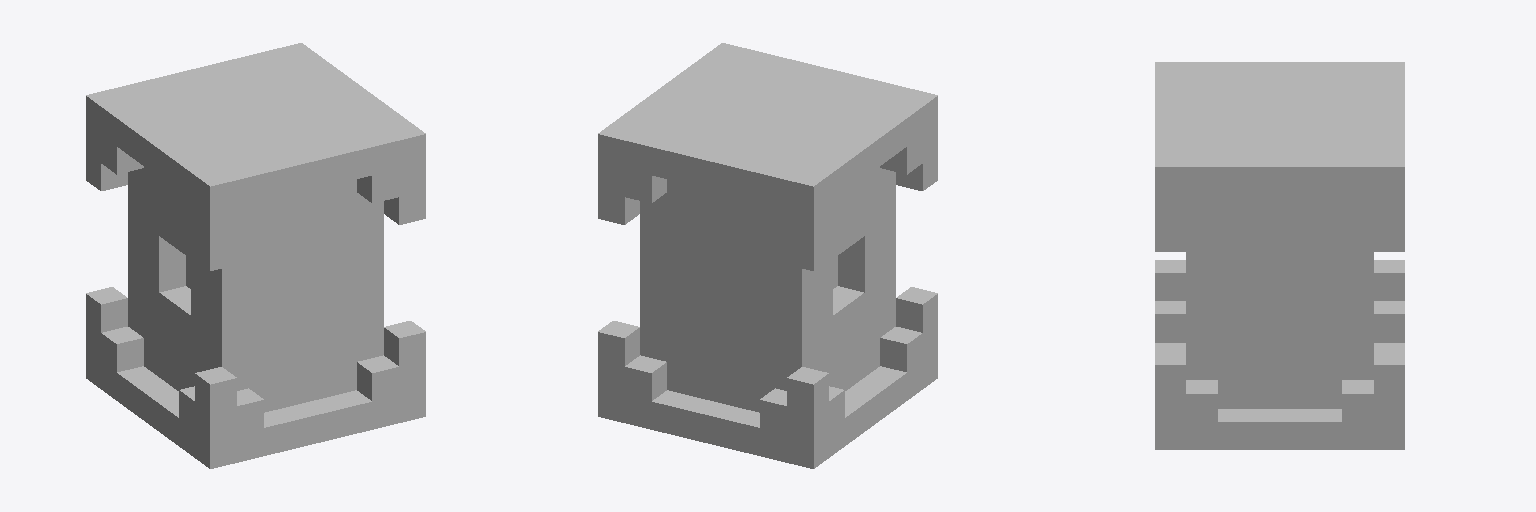
The model's file is pusher.obj.
The picture shows the model from 3 angles: view 1: azimuth 30°, elevation 25°; view 2: azimuth 150°, elevation 25°; view 3: azimuth 270°, elevation 25°; orthographic projection.
Parts seen in each view (by area): view 1: object 1; view 2: object 1; view 3: object 1.
Boxes of the visible parts, <box> form: object 1: <box>86,43,425,468</box>; object 1: <box>598,43,937,468</box>; object 1: <box>1155,62,1404,449</box>.
Bounding box in the file's own units: 0.8 × 1 × 0.8.